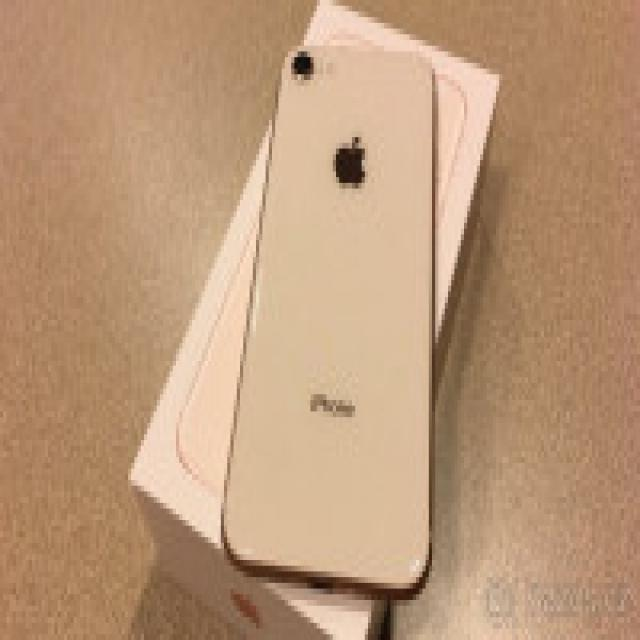mobile phone: (218, 34, 435, 594)
